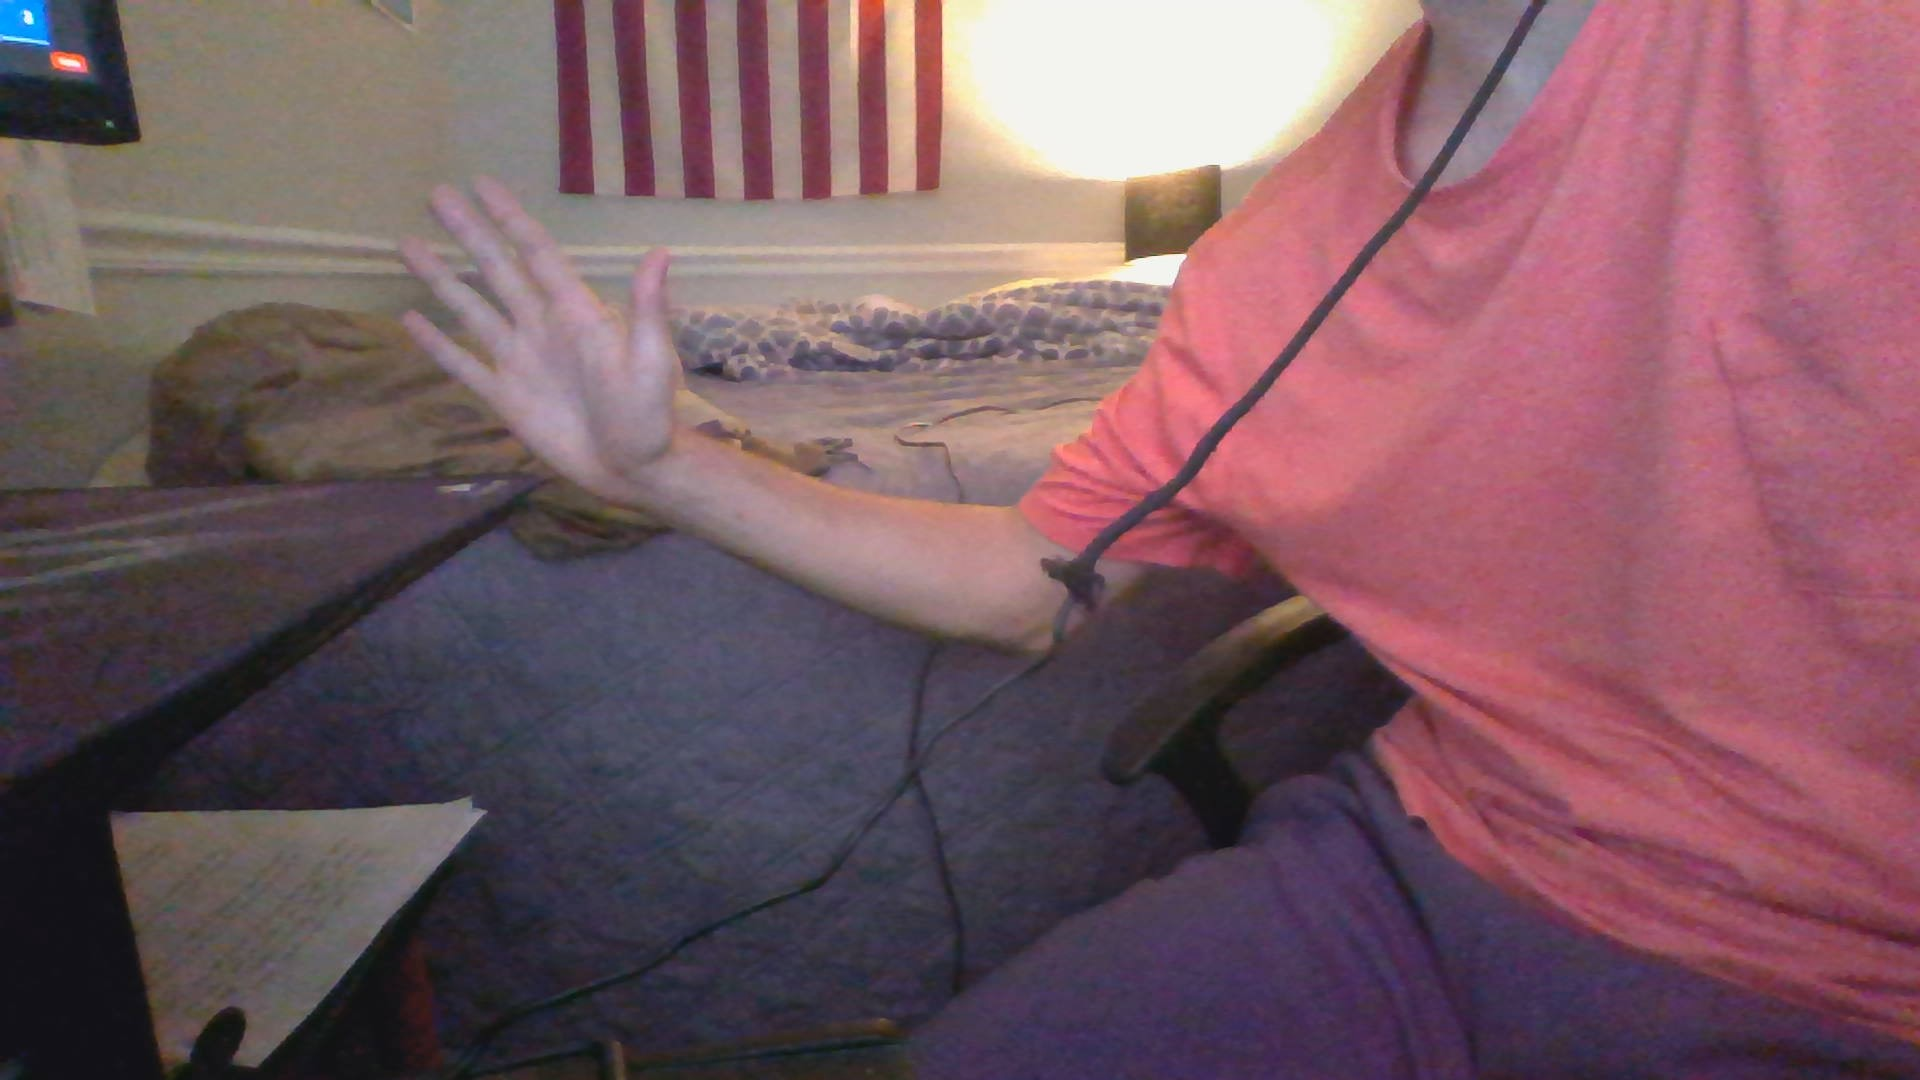Right Palm Up: (382, 165, 709, 495)
